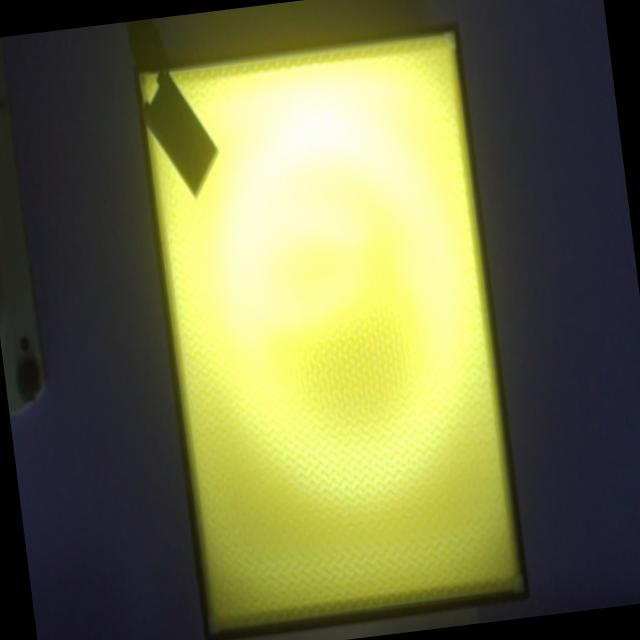bateria: (142, 68, 218, 201)
mesa: (131, 24, 530, 640)
